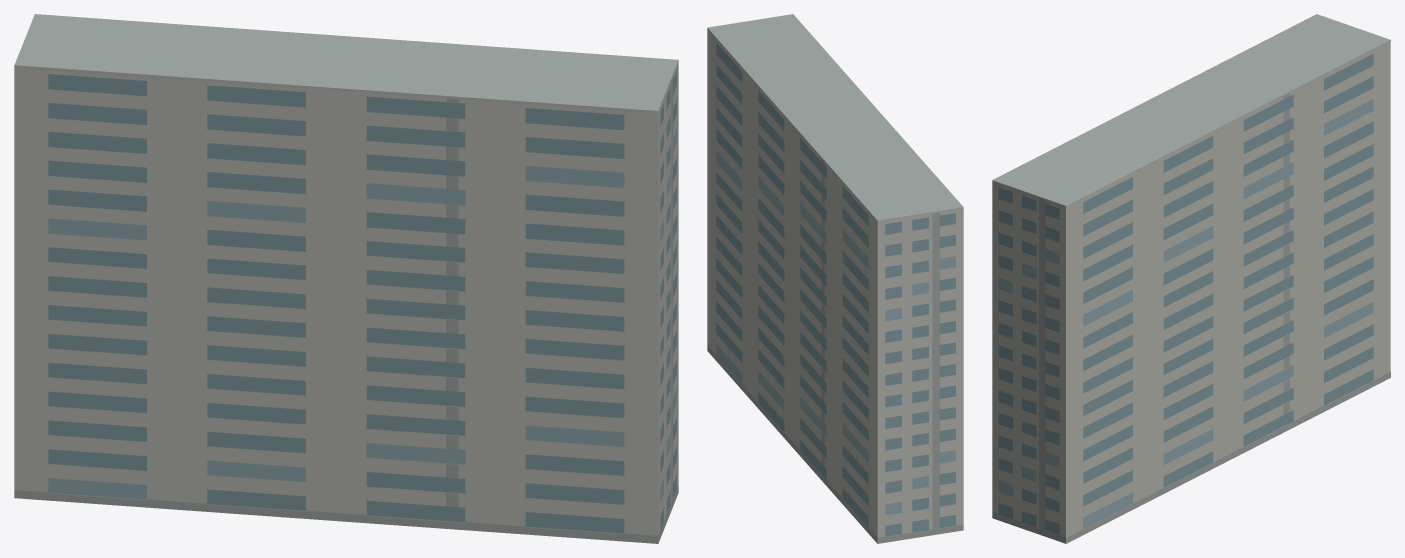
File: residential-60141fc9-3f12-4874-9e5c-4ff985bb2937.glb
The picture shows the model from 3 angles, left to right: view 1: azimuth 30°, elevation 25°; view 2: azimuth 150°, elevation 25°; view 3: azimuth 270°, elevation 25°; orthographic projection. The views are drawn at different scales.
Visible parts, largest first — view 1: residential-60141fc9-3f12-4874-9e5c-4ff985bb2937.tmp; view 2: residential-60141fc9-3f12-4874-9e5c-4ff985bb2937.tmp; view 3: residential-60141fc9-3f12-4874-9e5c-4ff985bb2937.tmp.
Part boxes in pixels (x1=…): residential-60141fc9-3f12-4874-9e5c-4ff985bb2937.tmp: x1=14, y1=14, x2=678, y2=543; residential-60141fc9-3f12-4874-9e5c-4ff985bb2937.tmp: x1=707, y1=14, x2=963, y2=543; residential-60141fc9-3f12-4874-9e5c-4ff985bb2937.tmp: x1=992, y1=14, x2=1390, y2=543.
Size of the model in its own units: 55.71 by 45.75 by 48.9.
